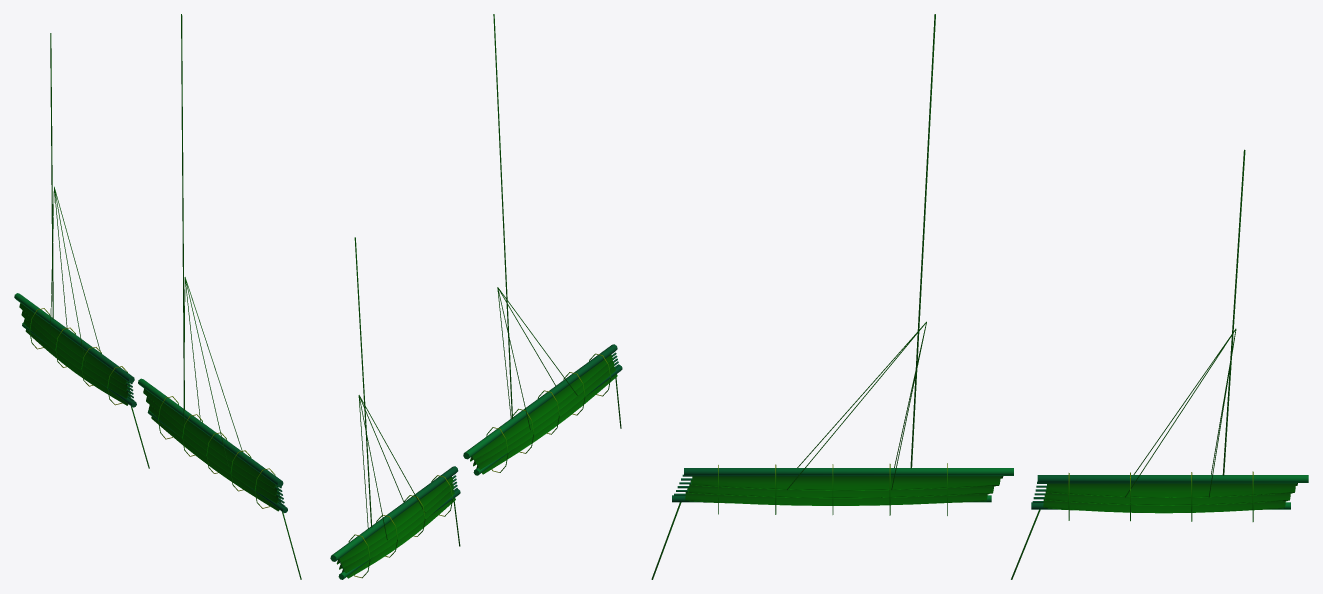
File: terrace_sails_furled.glb
The picture shows the model from 3 angles, left to right: view 1: azimuth 30°, elevation 25°; view 2: azimuth 150°, elevation 25°; view 3: azimuth 270°, elevation 25°; orthographic projection. The views are drawn at different scales.
Parts seen in each view (by area): view 1: terrace_sails_furled; view 2: terrace_sails_furled; view 3: terrace_sails_furled.
Part boxes in pixels (x1,y1,x2,y2): terrace_sails_furled: [14, 14, 301, 579]; terrace_sails_furled: [330, 14, 622, 579]; terrace_sails_furled: [651, 14, 1308, 579].
Size of what is drawn, in the model's own units: 0.6406 by 12.51 by 13.17.
